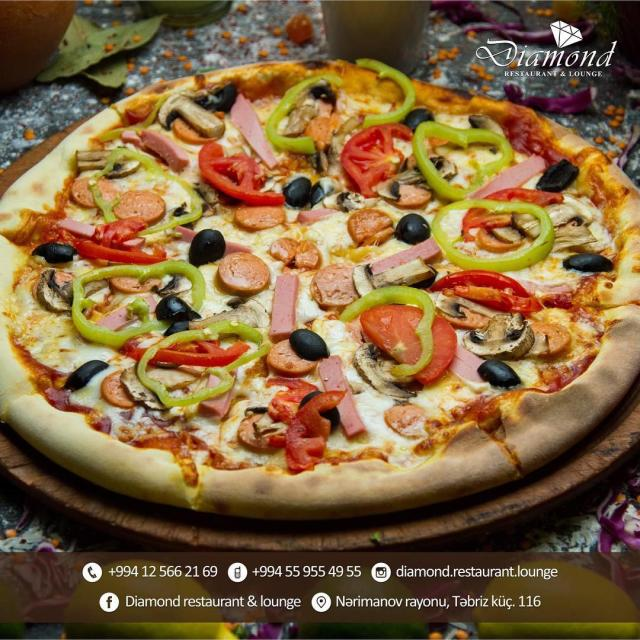black_olives: (181, 227, 231, 275), (65, 353, 104, 392), (538, 157, 576, 195), (289, 326, 332, 359), (393, 208, 430, 246), (154, 295, 200, 325), (564, 249, 614, 276), (479, 354, 513, 391), (403, 105, 438, 136), (32, 238, 81, 260), (282, 174, 312, 209), (203, 80, 235, 109), (312, 175, 335, 204), (310, 82, 336, 105)
mushrooms: (514, 199, 599, 249), (355, 339, 419, 405), (194, 294, 269, 343), (160, 81, 223, 138), (354, 254, 437, 296), (380, 155, 454, 201), (458, 307, 533, 352), (38, 265, 100, 317), (75, 138, 141, 186), (122, 355, 180, 407), (244, 397, 286, 440)
peppers: (70, 260, 212, 340), (143, 324, 270, 409), (88, 143, 200, 235), (432, 199, 552, 272), (410, 116, 512, 199), (344, 284, 429, 378), (121, 326, 252, 368), (263, 72, 328, 156), (357, 53, 413, 131), (78, 222, 168, 269), (446, 269, 524, 301)
pizza: (0, 59, 640, 529)
